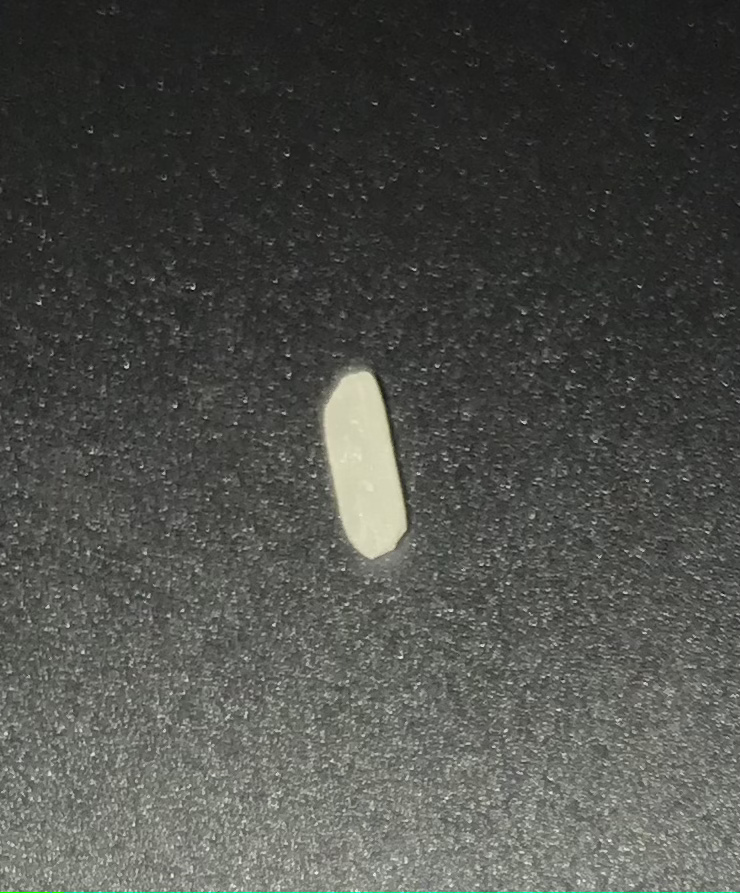Gao Tam Thom: (305, 355, 417, 557)
